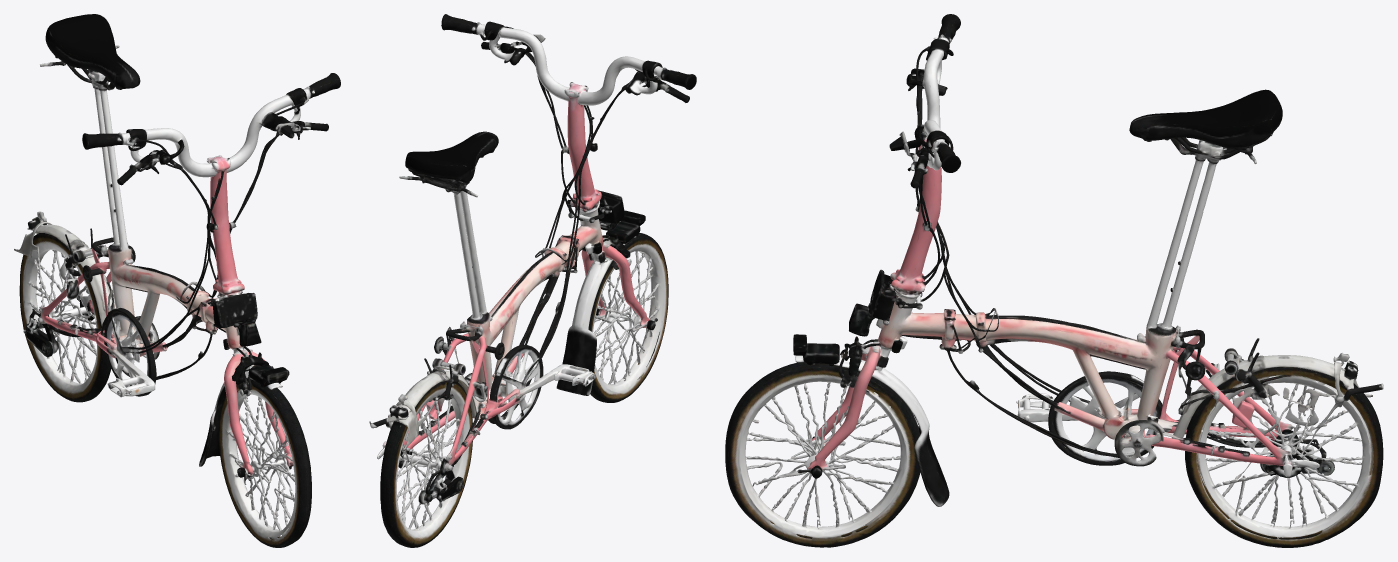
The model's file is brompton.glb.
3 views of the same model, side by side, from view 1: azimuth 30°, elevation 25°; view 2: azimuth 150°, elevation 25°; view 3: azimuth 270°, elevation 25° (orthographic). The views are drawn at different scales.
Parts seen in each view (by area): view 1: geometry_0; view 2: geometry_0; view 3: geometry_0.
Part boxes in pixels (x1,y1,x2,y2): geometry_0: [14, 14, 340, 547]; geometry_0: [369, 14, 696, 547]; geometry_0: [725, 14, 1383, 547].
Size of the model in its own units: 0.5184 by 0.775 by 0.9995.
Materials: 1 (1 with a texture image).
